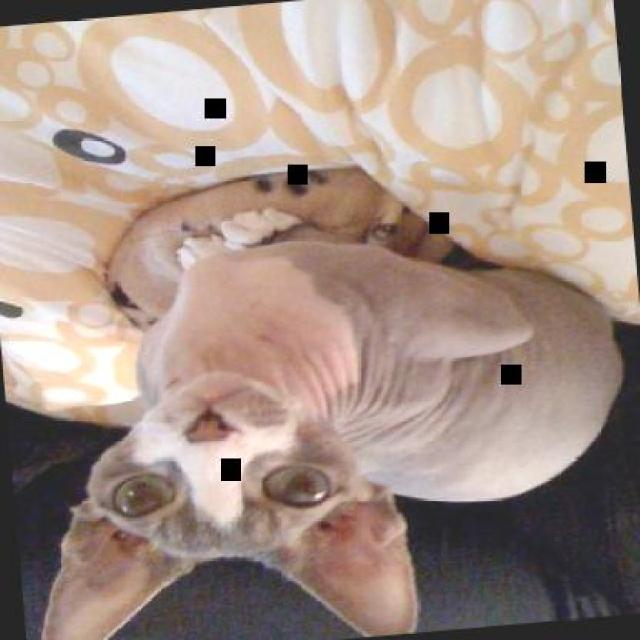cat: (4, 178, 638, 638)
